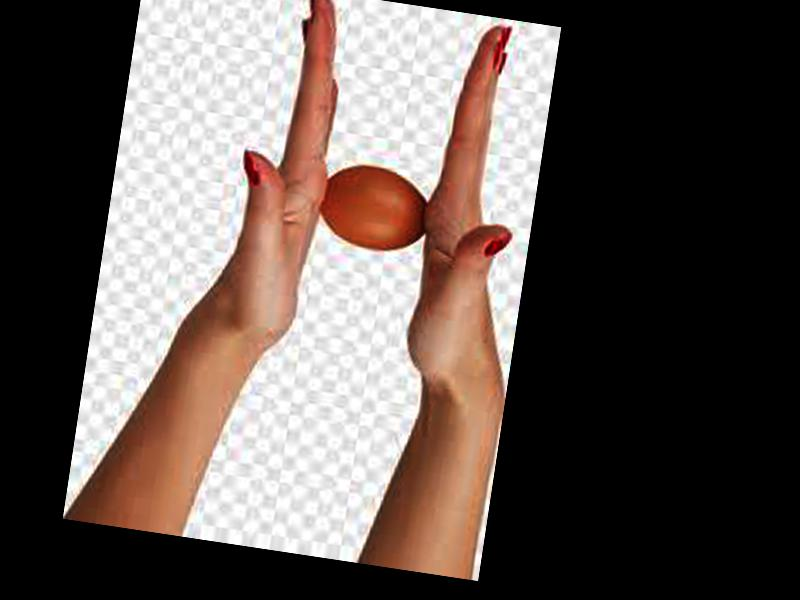Eggs: (315, 162, 431, 256)
